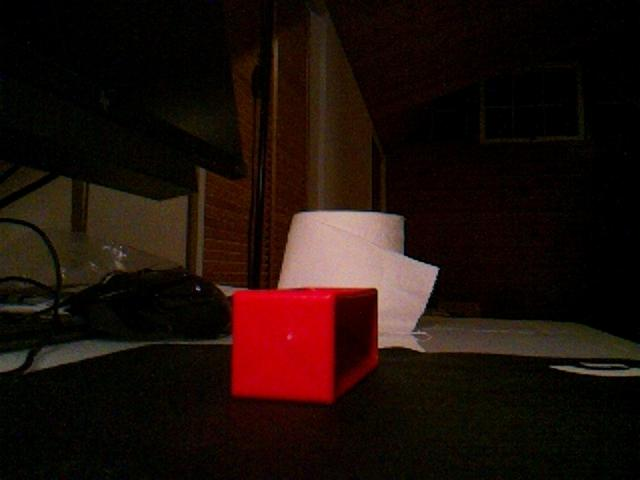red: (229, 286, 380, 405)
